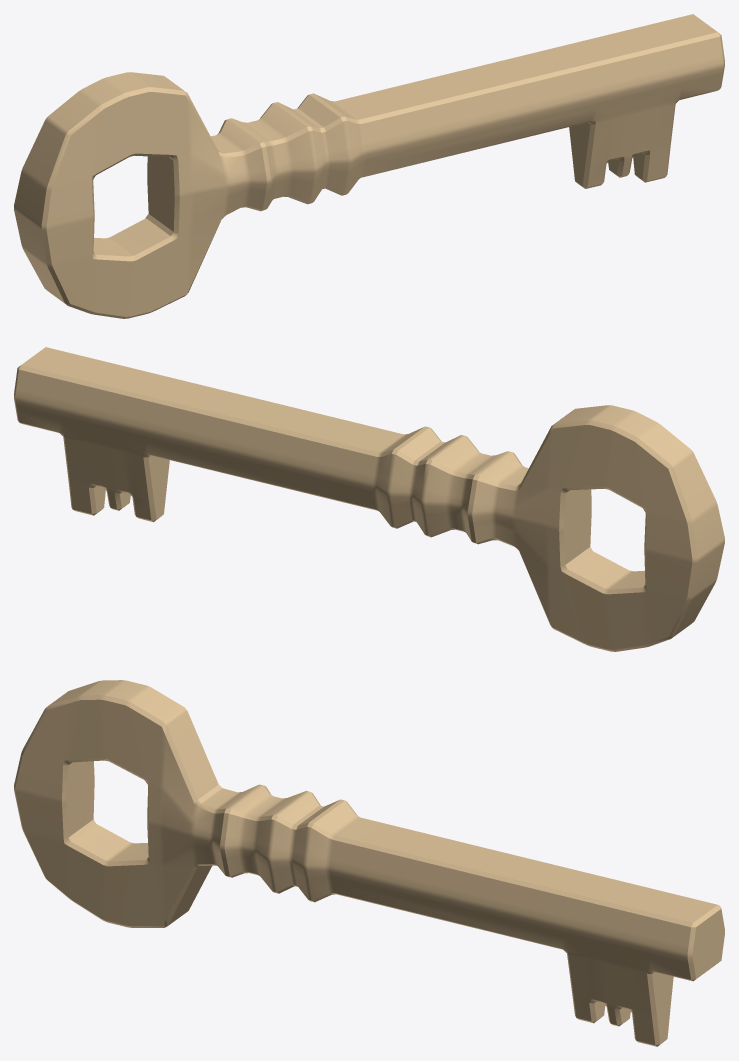
File: Key1.fbx
3 views of the same model, one above another, from view 1: azimuth 30°, elevation 25°; view 2: azimuth 150°, elevation 25°; view 3: azimuth 330°, elevation 25° (orthographic).
Parts seen in each view (by area): view 1: key1; view 2: key1; view 3: key1.
Part boxes in pixels (x1=…): key1: x1=14, y1=14, x2=724, y2=318; key1: x1=14, y1=347, x2=724, y2=651; key1: x1=14, y1=680, x2=724, y2=1046.
Size of the model in its own units: 2.28 by 0.7242 by 0.2711.
